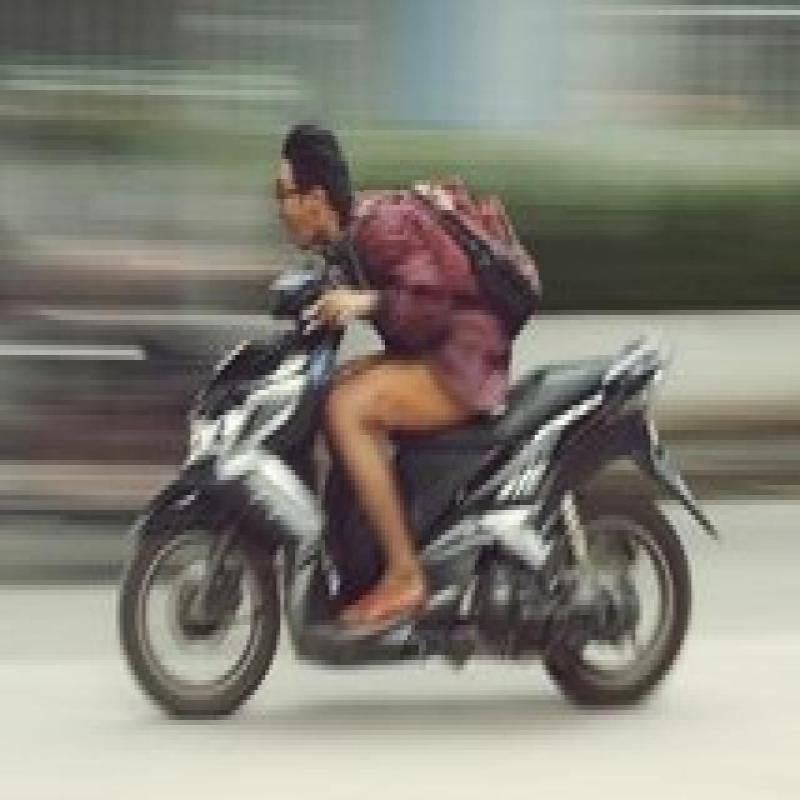nohelmet: (267, 130, 365, 259)
